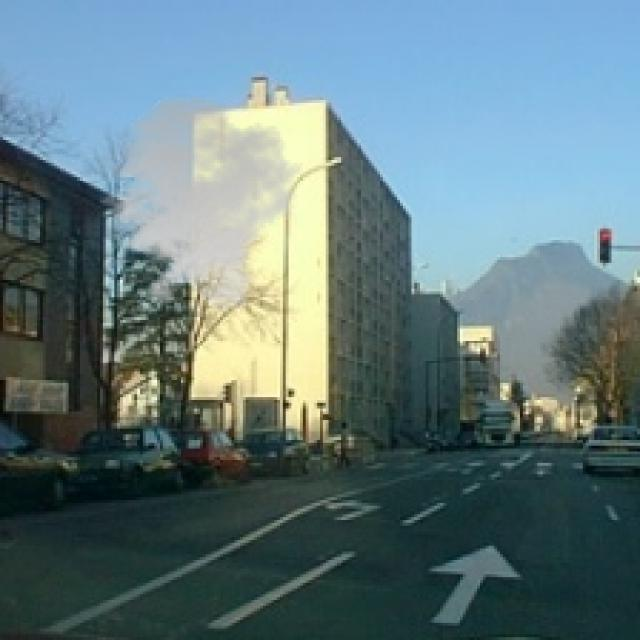smoke: (89, 94, 308, 314)
